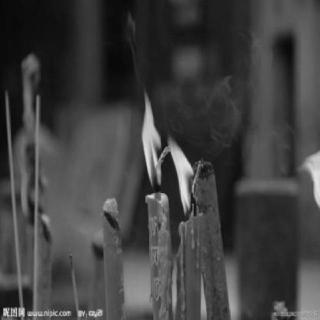Fire: (165, 128, 207, 220)
